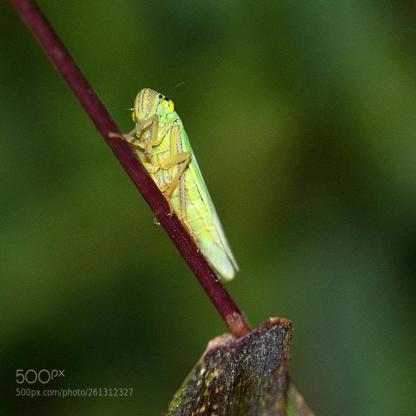Green-Leafhopper: (108, 76, 239, 286)
